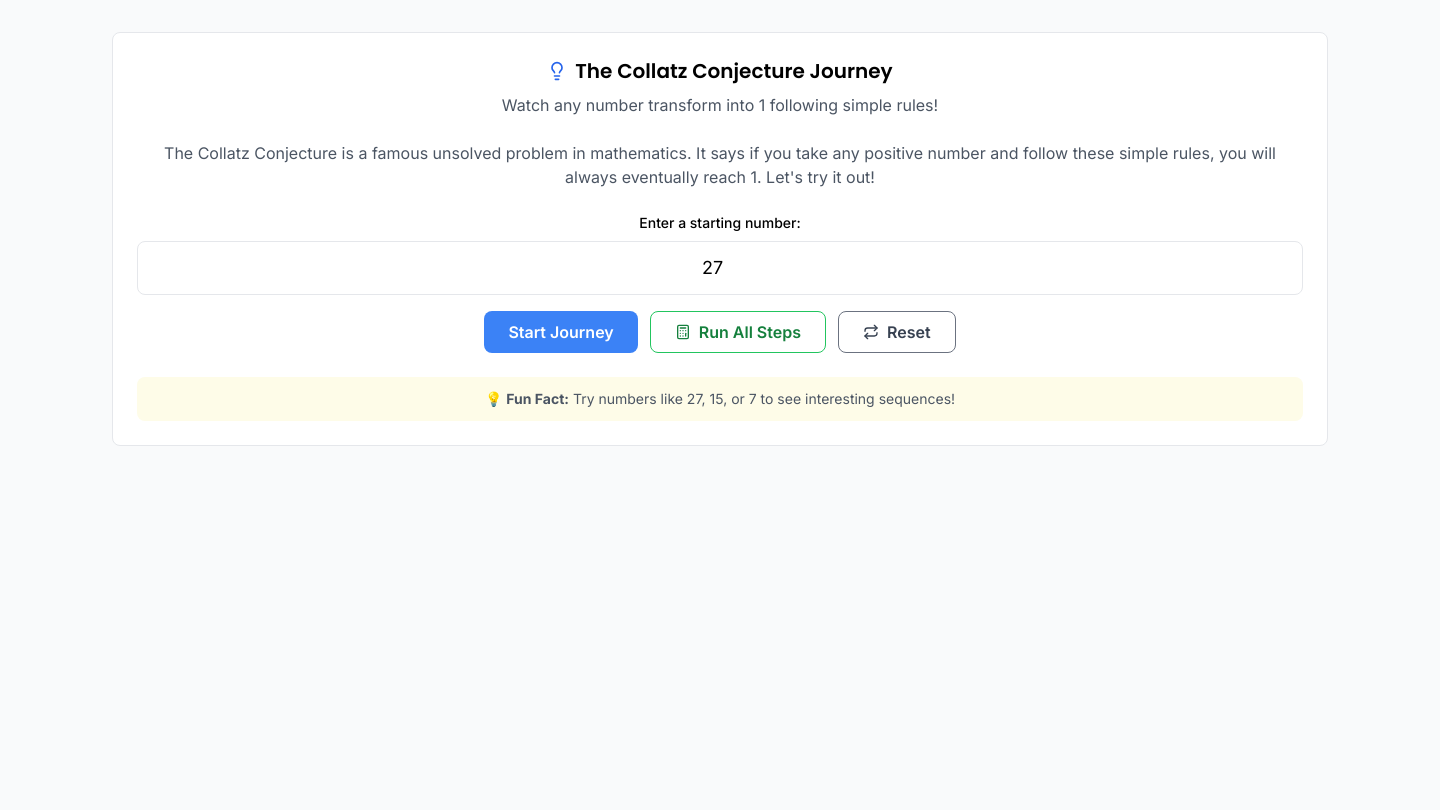
Test: CollatzVisualizer › starts the journey when Start Journey is clicked
Step 1. Click the button "Start Journey" → (561, 332), box [484,311,638,353]
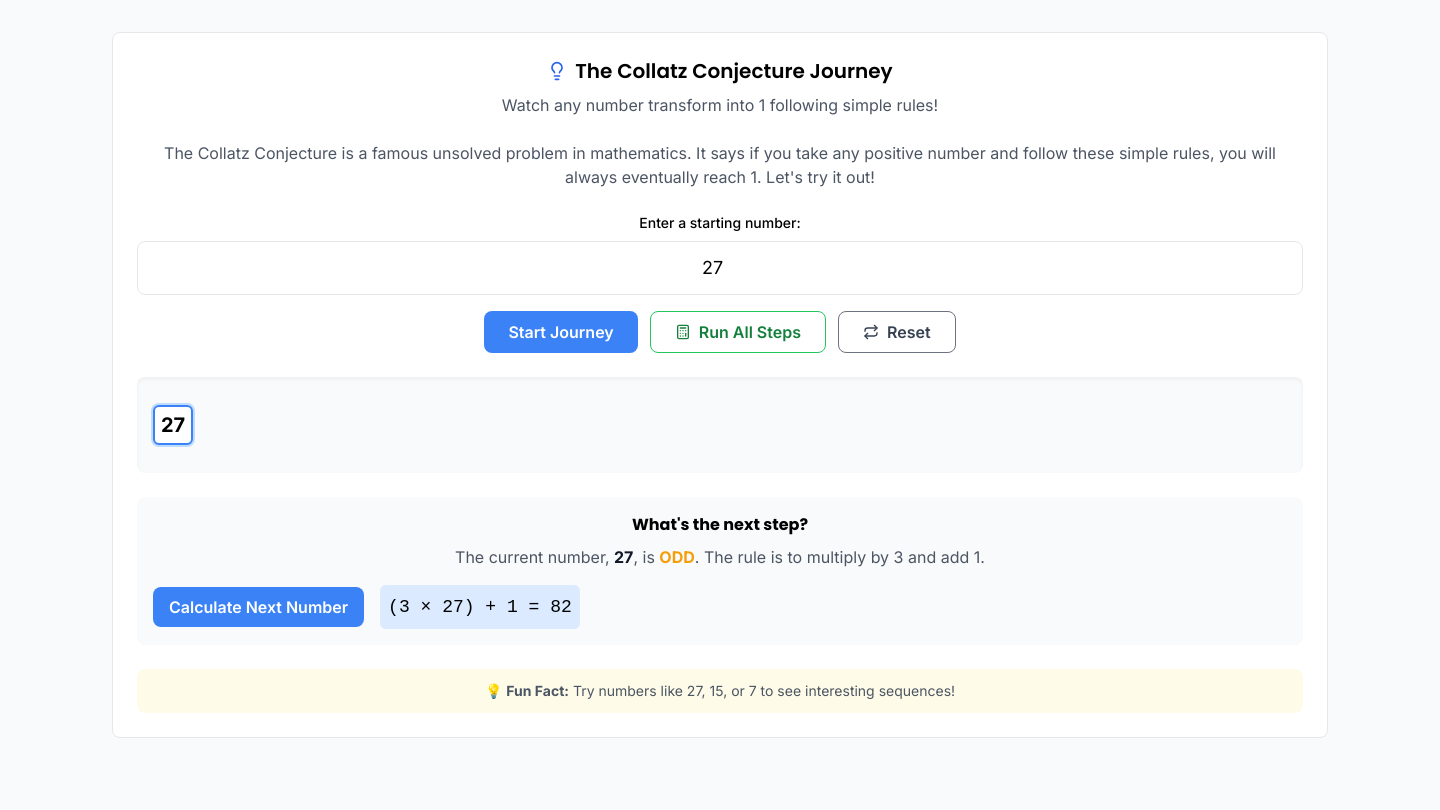
Check: the 1st text "27" is shown, box [153,405,193,445]
